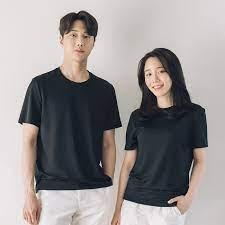Tshirt: (16, 70, 122, 192), (124, 98, 213, 208)
